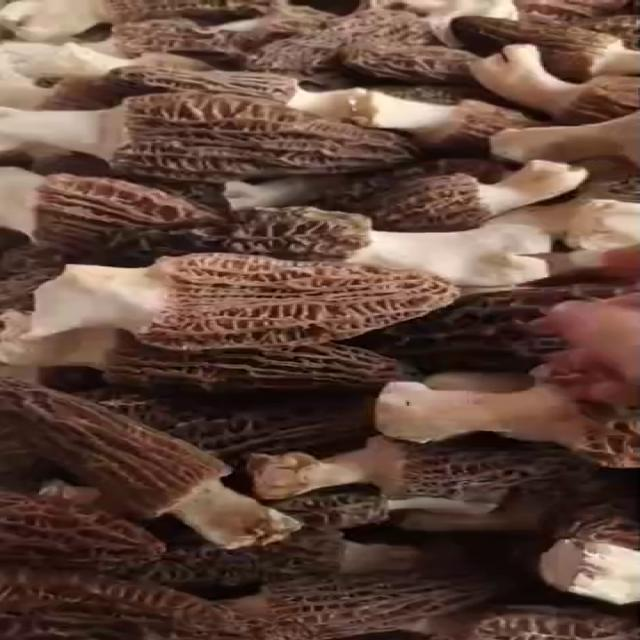Morchella esculenta: (0, 379, 291, 546), (23, 253, 455, 346), (0, 91, 421, 183)
